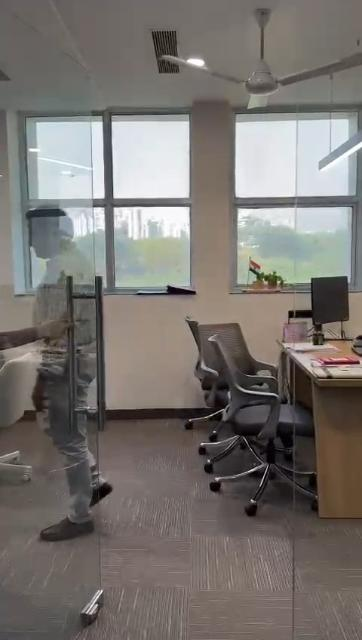floor: (0, 430, 362, 640)
moving-obj: (3, 222, 146, 540)
object: (189, 307, 297, 505), (304, 266, 358, 348)
wall: (106, 296, 183, 406), (194, 110, 228, 302)
